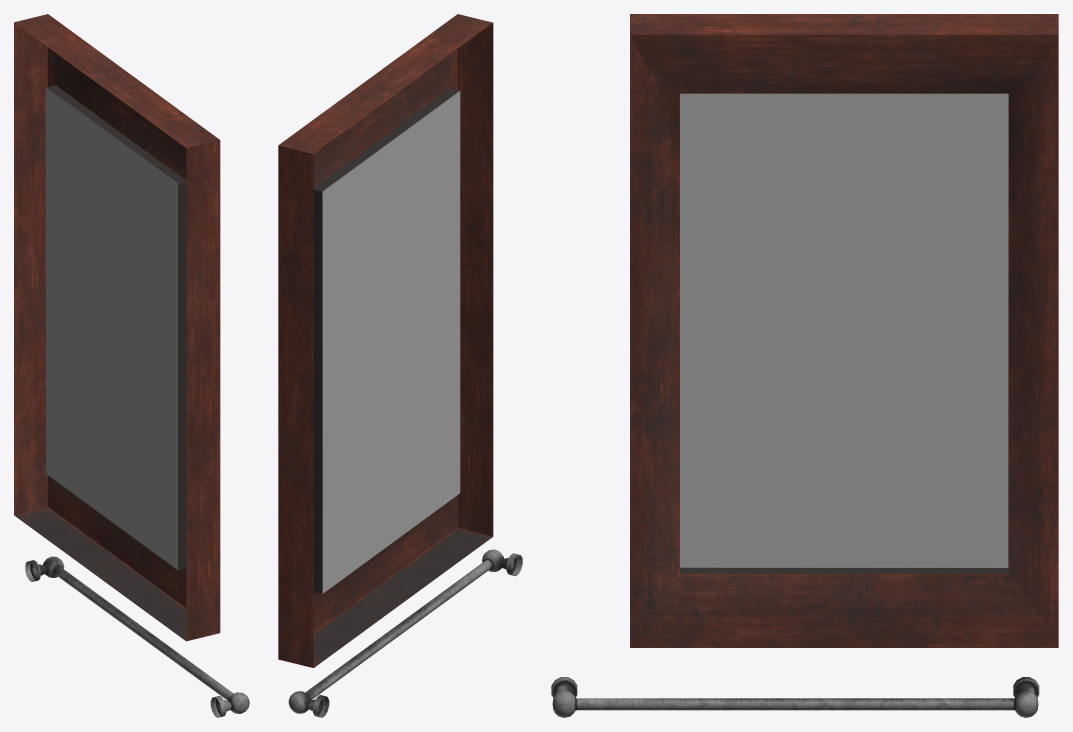
The model's file is SM_Mirror_Hanger.fbx.
3 renders of one model, left to right at view 1: azimuth 30°, elevation 25°; view 2: azimuth 150°, elevation 25°; view 3: azimuth 270°, elevation 25°, orthographic. The views are drawn at different scales.
Parts seen in each view (by area): view 1: SM_Mirror_Hanger; view 2: SM_Mirror_Hanger; view 3: SM_Mirror_Hanger.
Boxes of the visible parts, x1=… form: SM_Mirror_Hanger: x1=14, y1=14, x2=249, y2=717; SM_Mirror_Hanger: x1=278, y1=14, x2=522, y2=717; SM_Mirror_Hanger: x1=551, y1=14, x2=1058, y2=717.
Bounding box in the file's own units: 6.52 × 64.06 × 95.75.
1 material, 1 textured.
